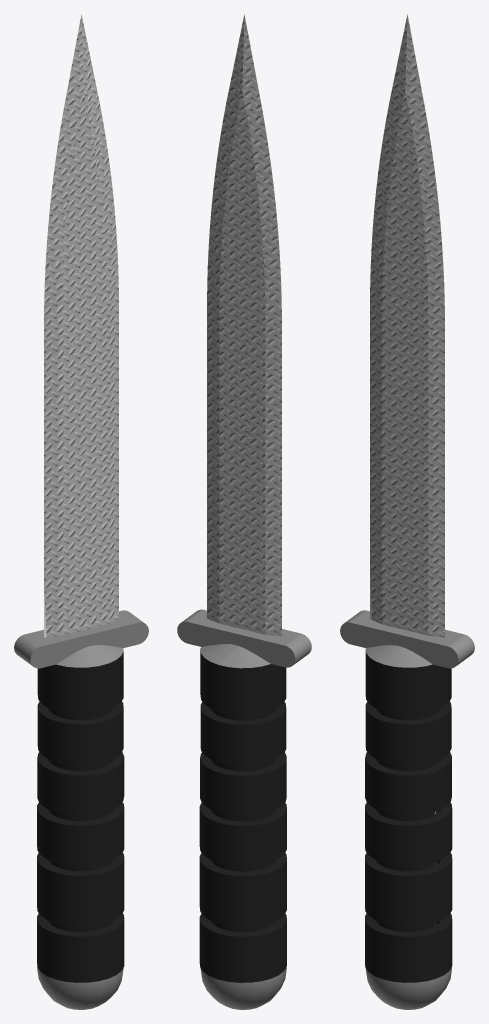
The picture shows the model from 3 angles, left to right: view 1: azimuth 30°, elevation 25°; view 2: azimuth 150°, elevation 25°; view 3: azimuth 330°, elevation 25°; orthographic projection.
Visible parts, largest first — view 1: mesh2-geometry-3, mesh2-geometry-0, mesh2-geometry-2, mesh1-geometry-0; view 2: mesh2-geometry-3, mesh2-geometry-0, mesh2-geometry-2, mesh1-geometry-0; view 3: mesh2-geometry-3, mesh2-geometry-0, mesh2-geometry-2, mesh1-geometry-0.
Part boxes in pixels (bbox=[...]): mesh2-geometry-3: bbox=[44, 14, 118, 637]; mesh2-geometry-0: bbox=[37, 652, 124, 982]; mesh2-geometry-2: bbox=[14, 610, 148, 668]; mesh1-geometry-0: bbox=[37, 967, 123, 1009]; mesh2-geometry-3: bbox=[207, 14, 281, 636]; mesh2-geometry-0: bbox=[199, 649, 286, 982]; mesh2-geometry-2: bbox=[177, 609, 311, 668]; mesh1-geometry-0: bbox=[200, 967, 286, 1009]; mesh2-geometry-3: bbox=[370, 14, 444, 637]; mesh2-geometry-0: bbox=[365, 650, 452, 982]; mesh2-geometry-2: bbox=[340, 610, 474, 668]; mesh1-geometry-0: bbox=[365, 967, 451, 1009].
Size of the model in its own units: 0.1235 by 0.9892 by 0.0793.
